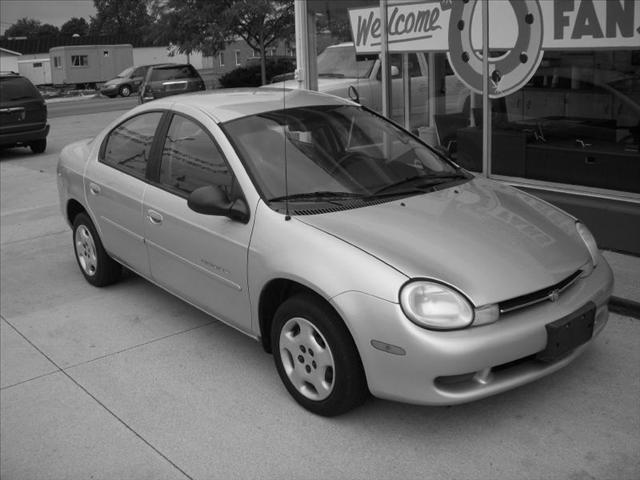car: (48, 81, 615, 427)
